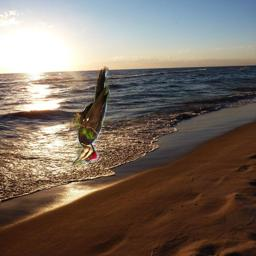Woodpecker: (70, 66, 110, 166)
